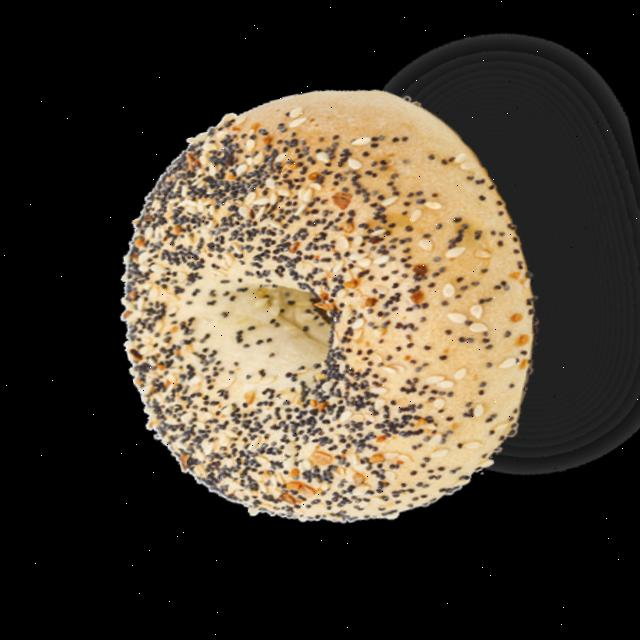Bagel: (119, 96, 529, 525)
